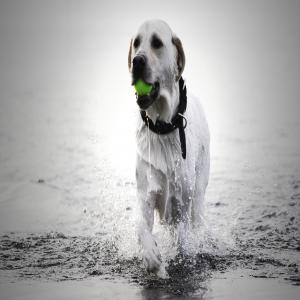TennisBall: (135, 80, 153, 98)
